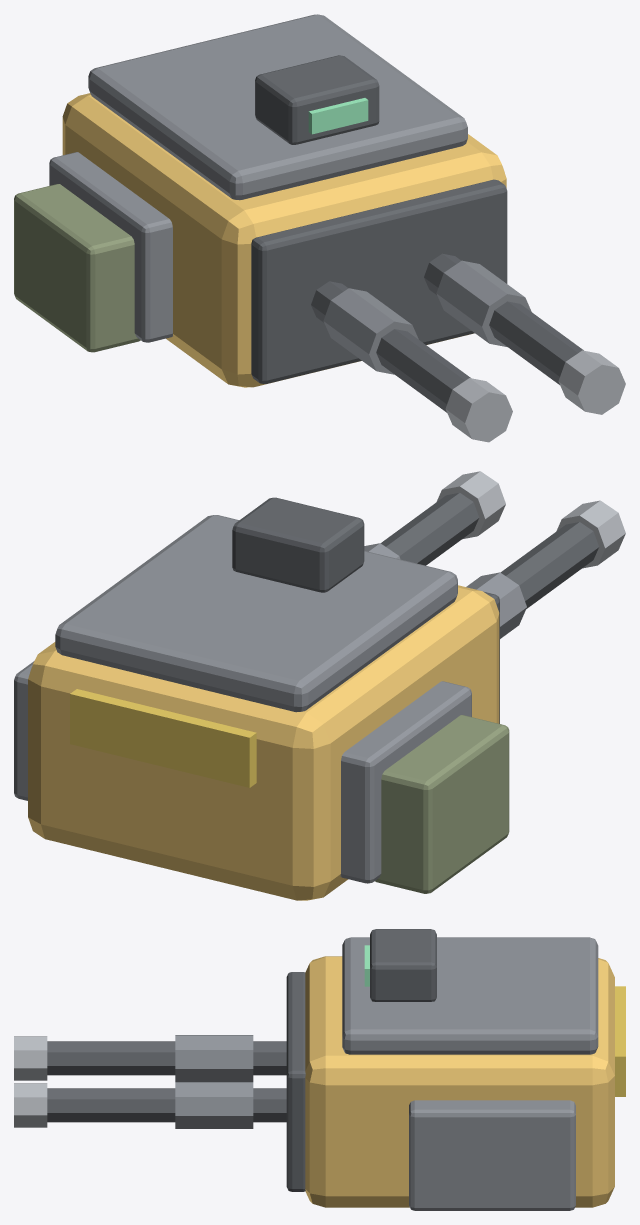
The model's file is eng_sentry_head.fbx.
The picture shows the model from 3 angles, top to bottom: view 1: azimuth 30°, elevation 25°; view 2: azimuth 150°, elevation 25°; view 3: azimuth 270°, elevation 25°; orthographic projection. The views are drawn at different scales.
Parts seen in each view (by area): view 1: eng_sentry_head; view 2: eng_sentry_head; view 3: eng_sentry_head.
Part boxes in pixels (x1,y1,x2,y2): eng_sentry_head: (14, 14, 625, 442); eng_sentry_head: (14, 471, 625, 900); eng_sentry_head: (14, 929, 625, 1210).
Bounding box in the file's own units: 0.68 × 0.47 × 1.1.
